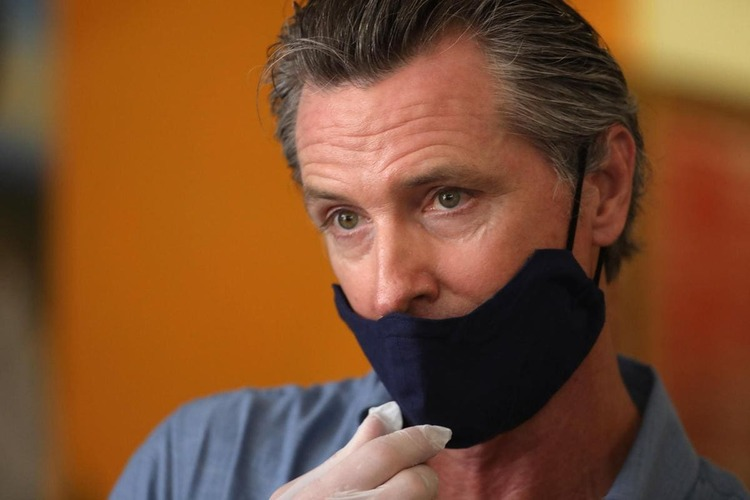with_incorrect_mask: (300, 53, 595, 413)
